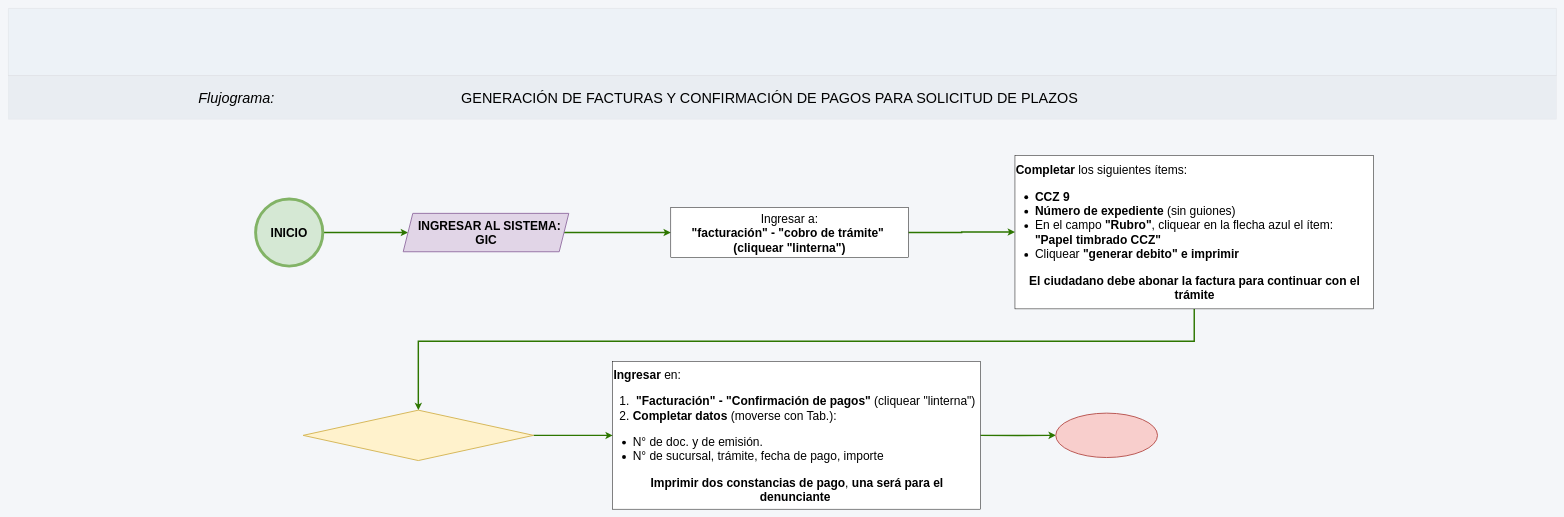
Some shapes in this 1564 by 517 pixel diagram are drawn without their labels. The shapes that lost their labels are listed below. From the top down, each one's centre as x and y in pixels, then its label:
the point at 418,435: Ya con el denunciante en el CCZ ¿Cómo confirmamos el pago de la factura?
the point at 1106,435: FIN
